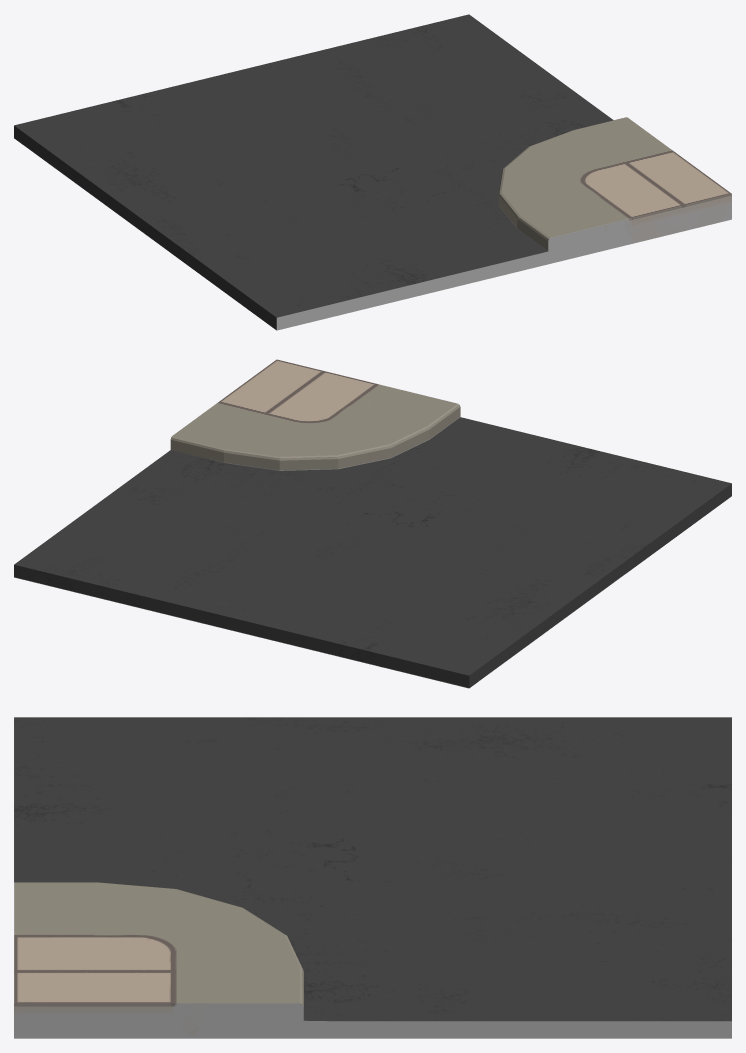
The model's file is Pavement_Default_Corner.fbx.
The picture shows the model from 3 angles, top to bottom: view 1: azimuth 30°, elevation 25°; view 2: azimuth 150°, elevation 25°; view 3: azimuth 270°, elevation 25°; orthographic projection. The views are drawn at different scales.
Visible parts, largest first — view 1: Cube.003; view 2: Cube.003; view 3: Cube.003.
Part boxes in pixels (x1,y1,x2,y2): Cube.003: (14,14,731,330); Cube.003: (14,359,731,688); Cube.003: (14,717,731,1038).
Size of the model in its own units: 100 by 5.4 by 100.
Materials: 1 (1 with a texture image).
